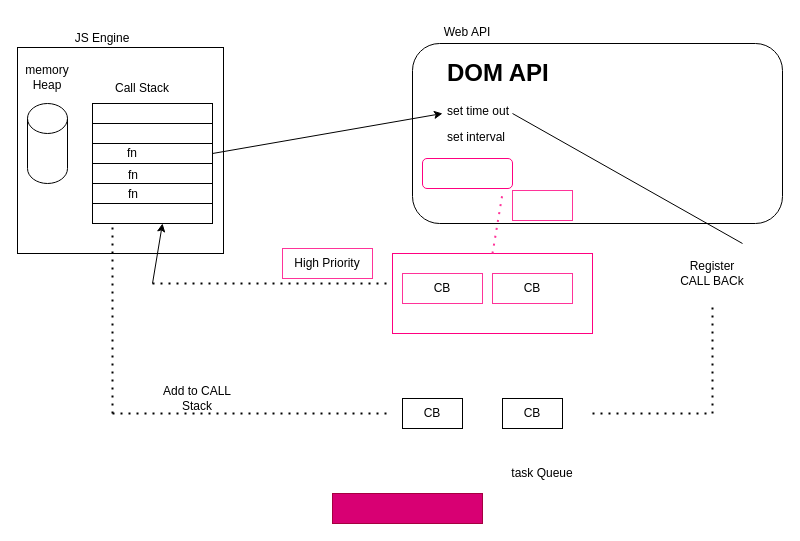
The diagram is 800 pixels wide and 541 high, and some of its shapes have lost their labels. Here are the shapes that lost their labels. From the top down, the box of each, then its label:
(422, 158, 512, 188): fetch ()
(92, 202, 212, 224): Global
(512, 190, 572, 220): Promise
(332, 492, 482, 524): Event Loop
